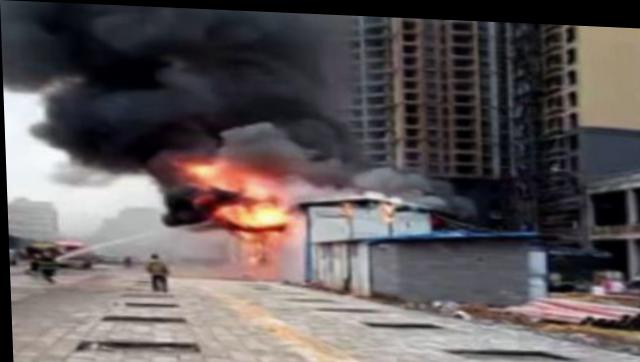fire: (225, 201, 289, 227), (180, 153, 229, 183), (235, 169, 269, 195)
